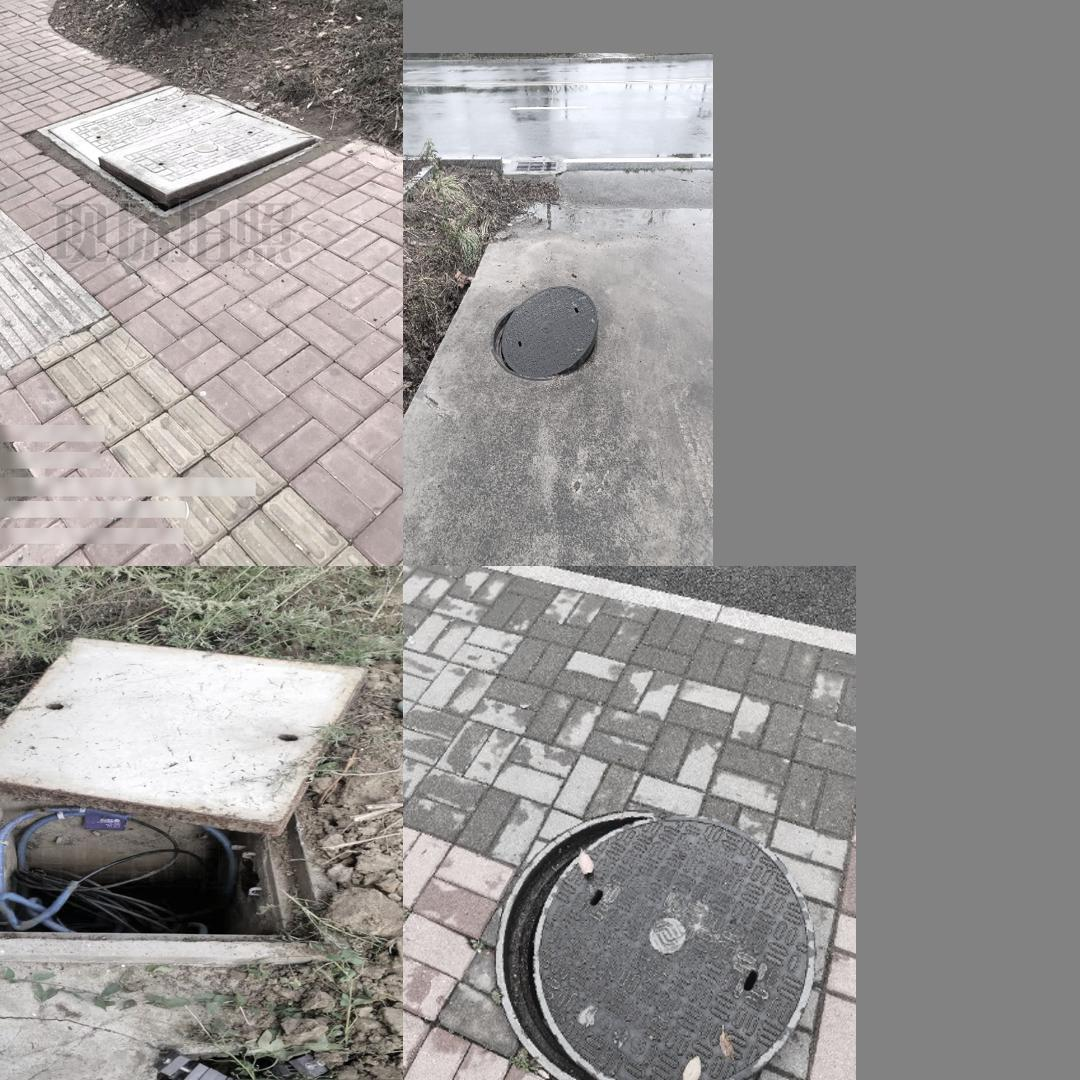uncovered: (0, 636, 370, 963), (483, 817, 822, 1080), (36, 84, 324, 218), (490, 285, 598, 378)
